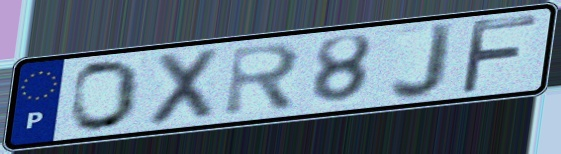8: (307, 33, 376, 109)
F: (456, 13, 541, 97)
J: (386, 21, 459, 102)
O: (68, 57, 143, 134)
R: (221, 40, 305, 120)
X: (143, 44, 226, 129)
